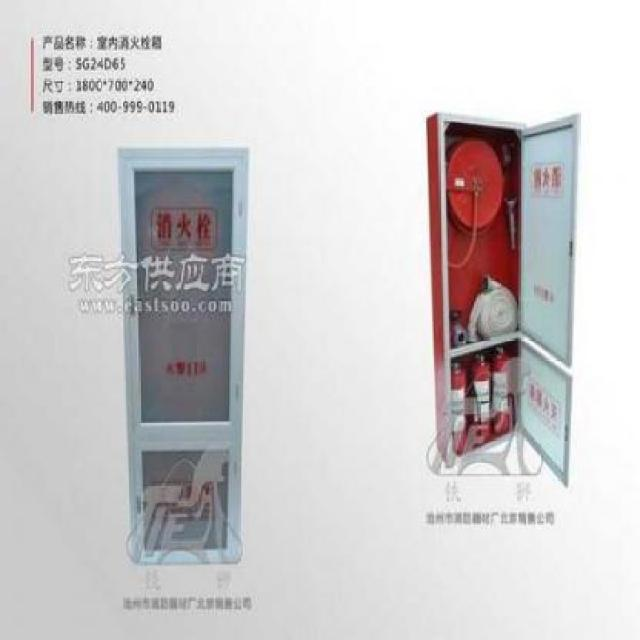firehydrant: (421, 104, 584, 494), (114, 140, 252, 572)
